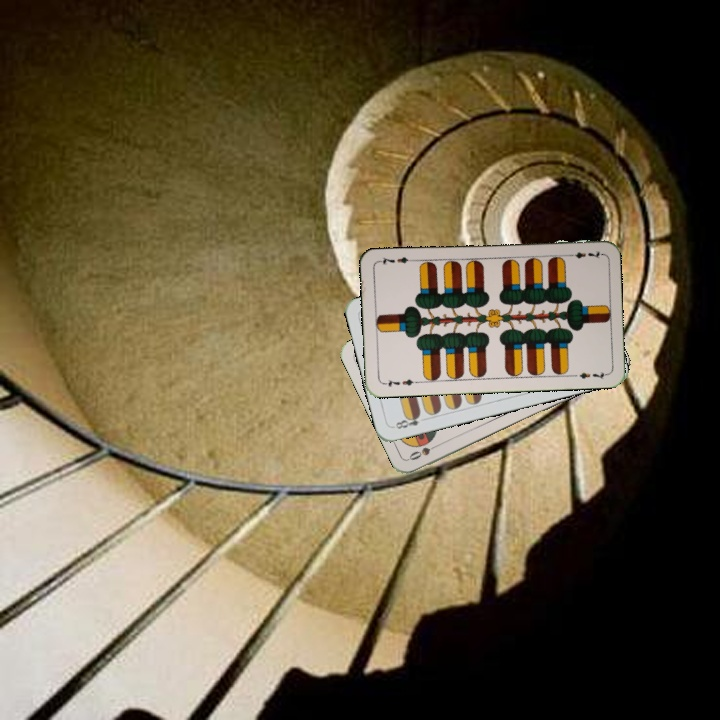E7: (380, 375, 420, 390), (563, 247, 604, 261)
E8: (390, 410, 423, 431)
SO: (405, 439, 444, 463)
